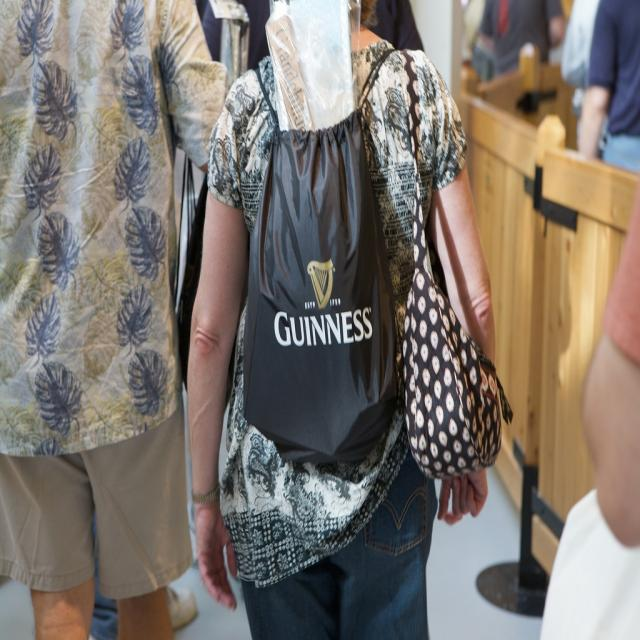guiness: (274, 259, 376, 351)
